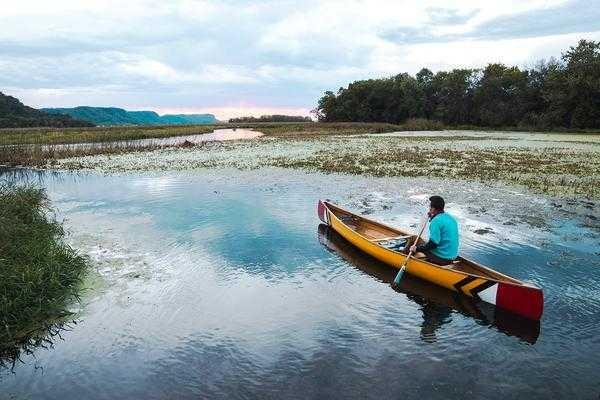kayak: (316, 198, 544, 320)
